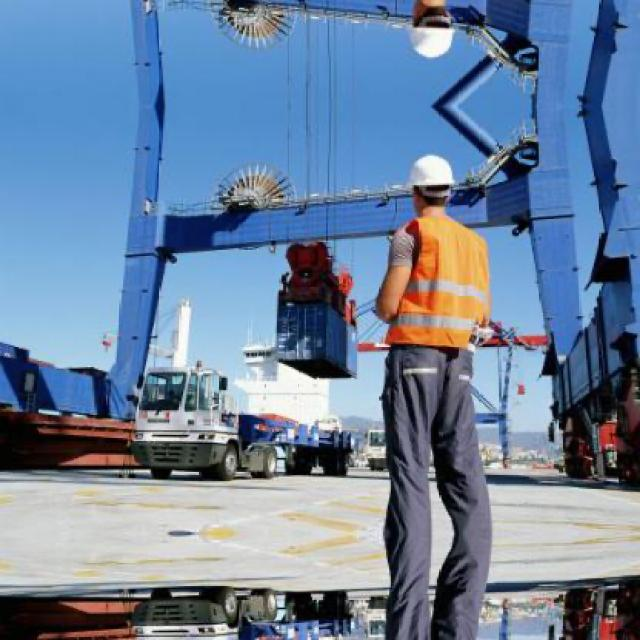helmet: (406, 148, 459, 216), (405, 0, 459, 66)
